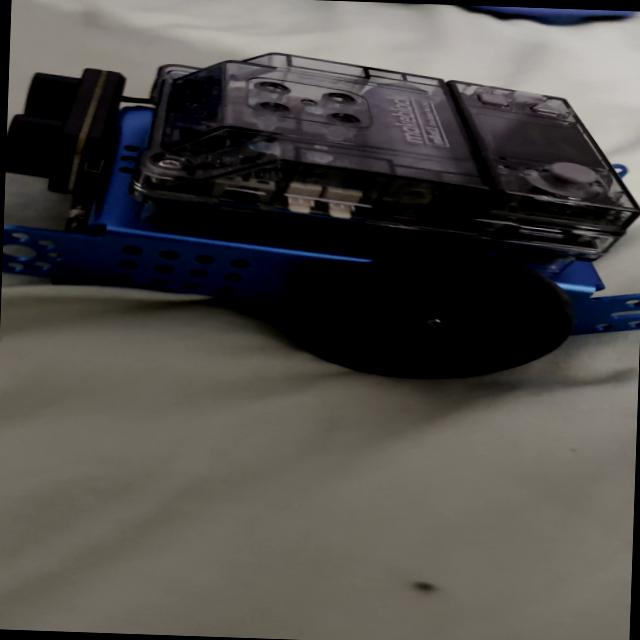mbot-detection: (0, 12, 640, 393)
